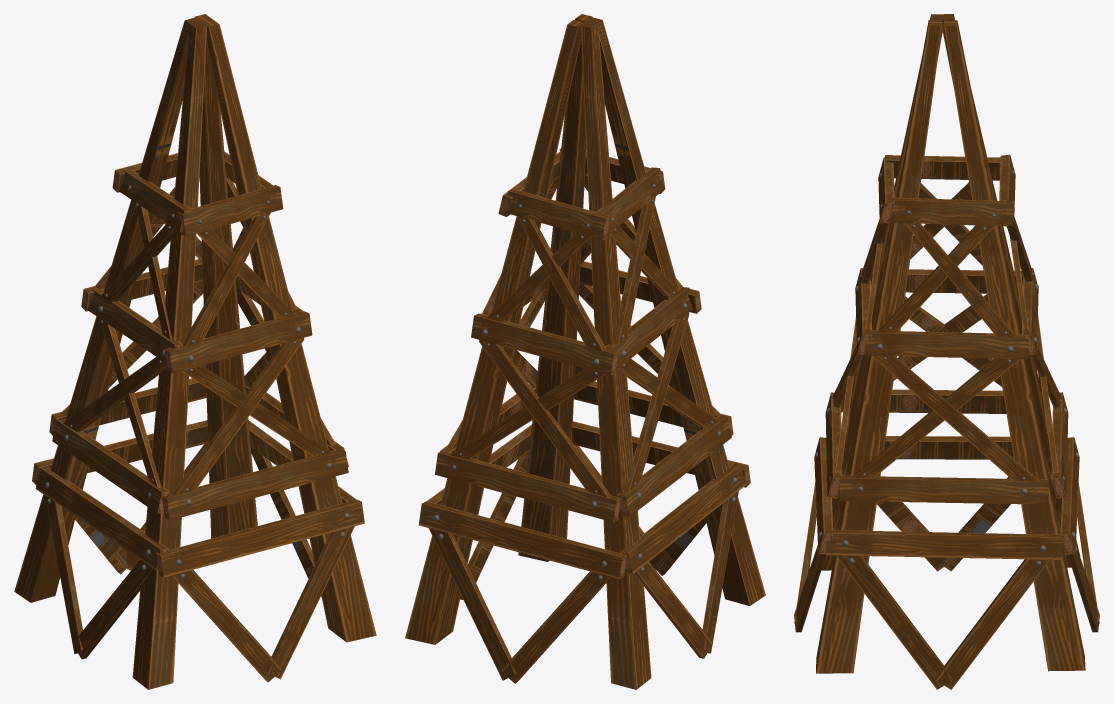
Rendered from windmill.003.fbx.
3 views of the same model, side by side, from view 1: azimuth 30°, elevation 25°; view 2: azimuth 150°, elevation 25°; view 3: azimuth 270°, elevation 25° (orthographic).
Visible parts, largest first — view 1: windmill.003; view 2: windmill.003; view 3: windmill.003.
Boxes of the visible parts, <box> form: windmill.003: <box>14,14,376,689</box>; windmill.003: <box>405,14,765,689</box>; windmill.003: <box>794,14,1099,689</box>.
Bounding box in the file's own units: 616 × 1432 × 651.
1 material, 1 textured.
